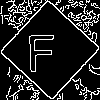F: (25, 25, 57, 72)
